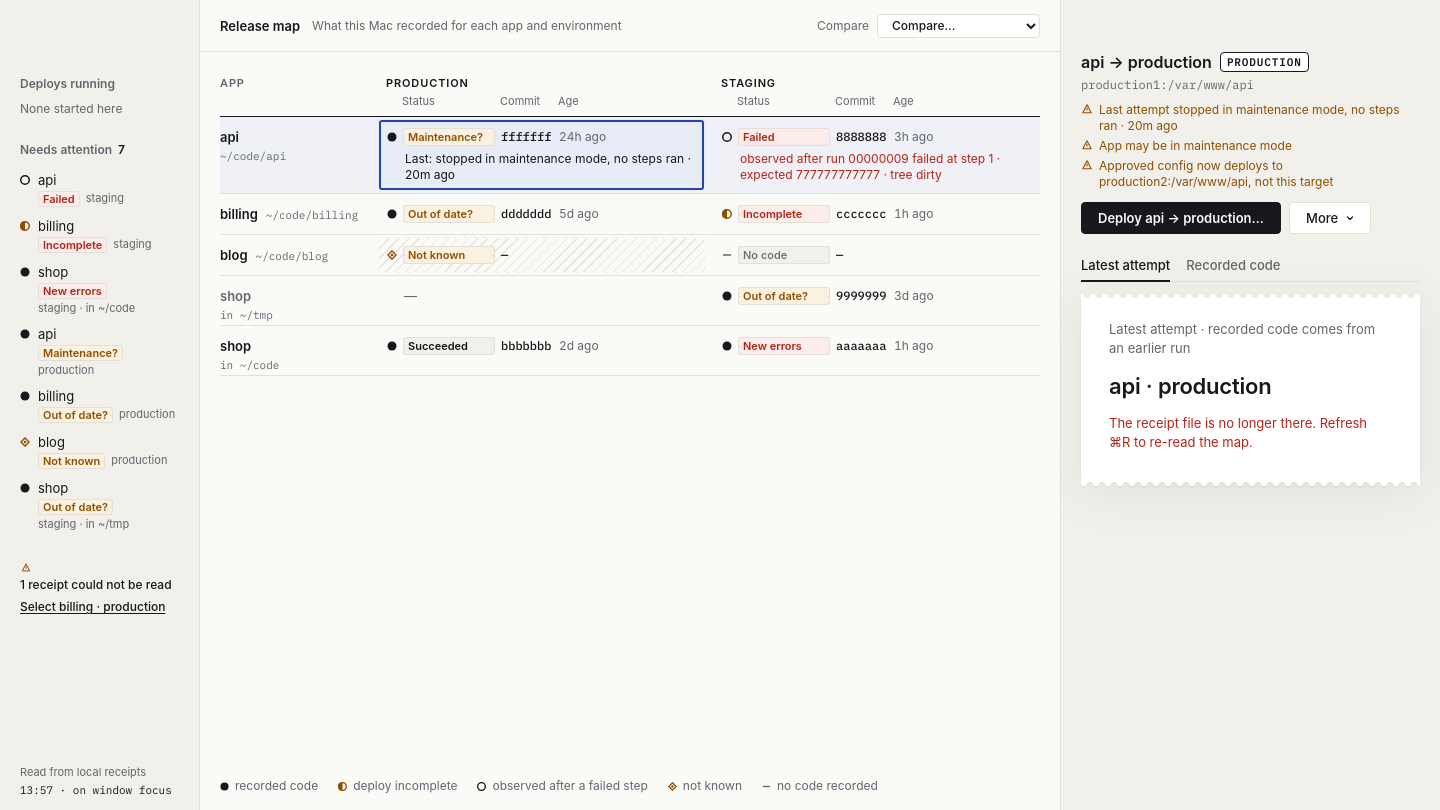
Test: refusal: This server's identity changed
Click the button "Deploy api → production…": click(1181, 218) [1081, 202, 1281, 234]
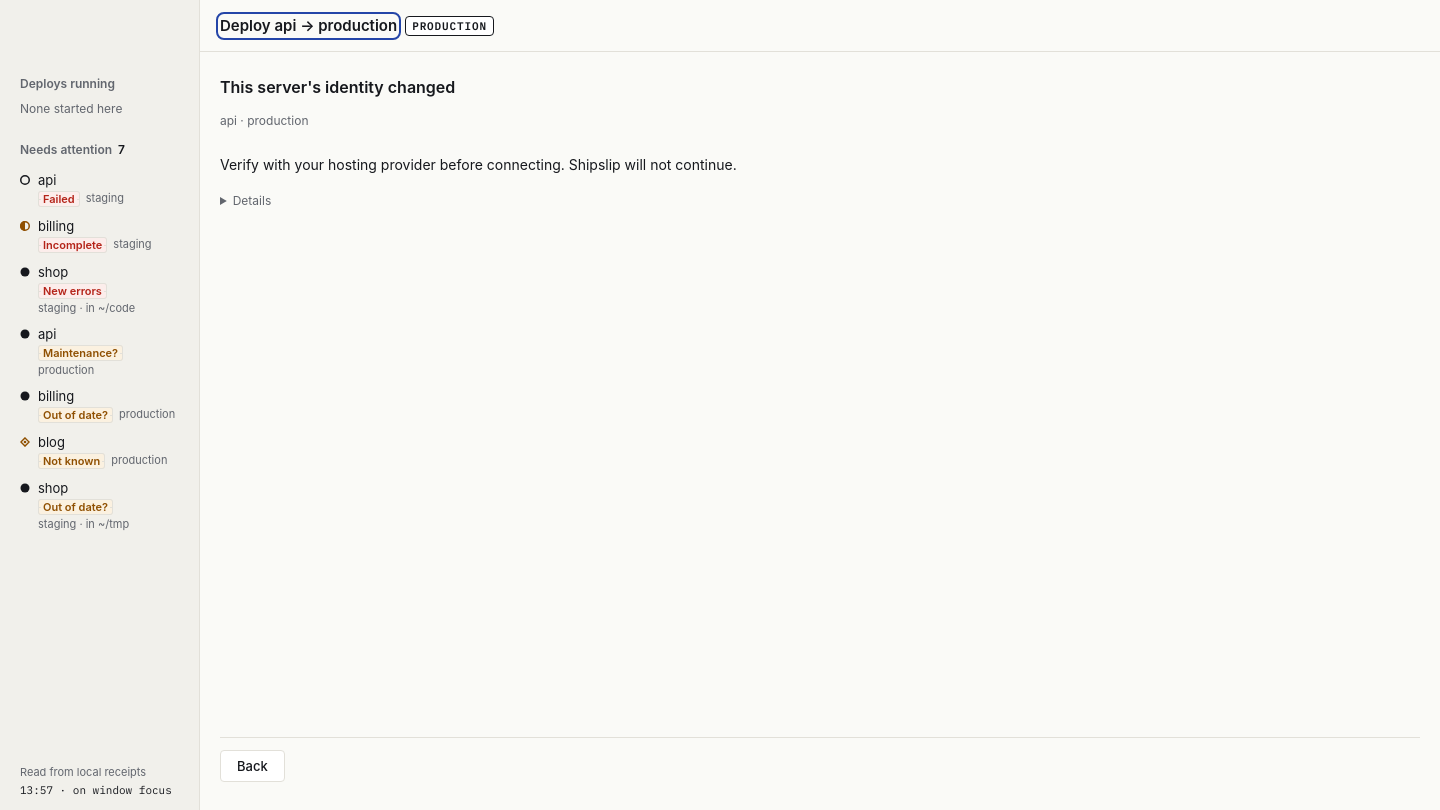
Expected: the heading "This server's identity changed" is shown, [220, 77, 455, 97]
Expected: the text "Verify with your hosting provider before connecting. Shipslip will not continue." is shown, [220, 156, 737, 173]
